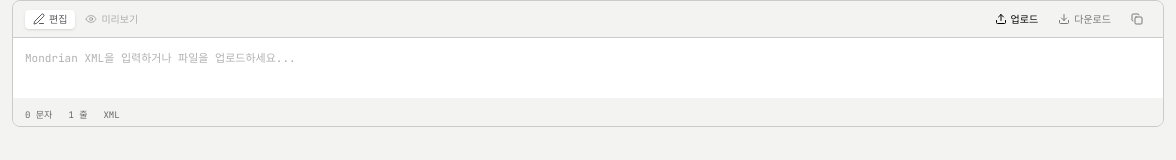
MondrianXmlEditor › 빈 값일 때 미리보기 모드에서 안내 메시지를 표시한다
This screenshot has width=1176, height=160.
Click the button "미리보기" at (112, 19), box [77, 10, 146, 28]
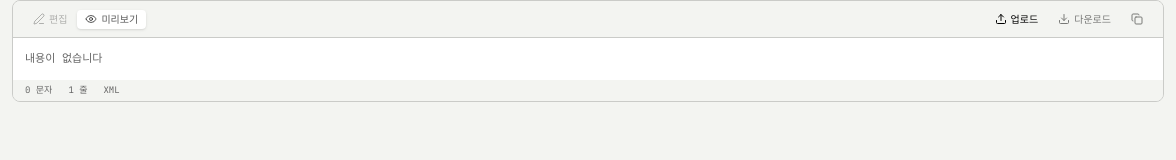
expect the text "내용이 없습니다" is shown: met, box [13, 38, 1163, 80]
